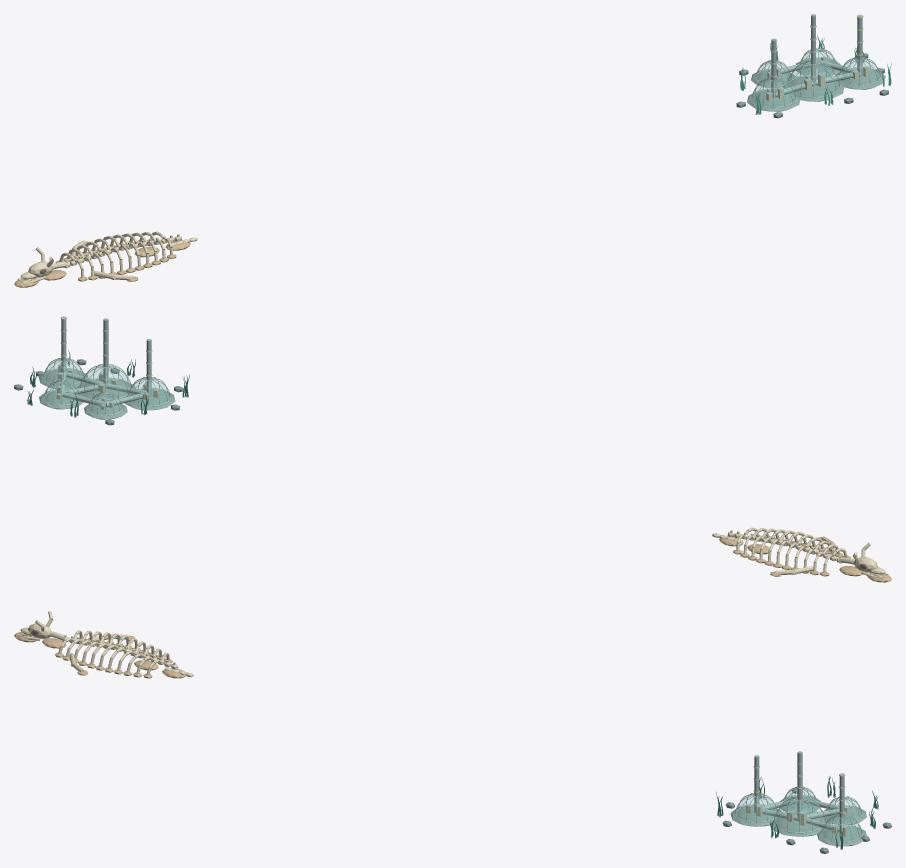
File: giants_v2.glb
The picture shows the model from 3 angles, top to bottom: view 1: azimuth 30°, elevation 25°; view 2: azimuth 150°, elevation 25°; view 3: azimuth 330°, elevation 25°; orthographic projection. The views are drawn at different scales.
Parts seen in each view (by area): view 1: underwater_city, giant_skeleton; view 2: underwater_city, giant_skeleton; view 3: underwater_city, giant_skeleton.
Part boxes in pixels (x1,y1,x2,y2): underwater_city: (736, 14, 891, 118); giant_skeleton: (14, 231, 197, 287); underwater_city: (14, 316, 189, 425); giant_skeleton: (712, 527, 891, 582); underwater_city: (716, 751, 891, 853); giant_skeleton: (14, 611, 193, 678).
Bounding box in the file's own units: 878 × 73 × 114.
